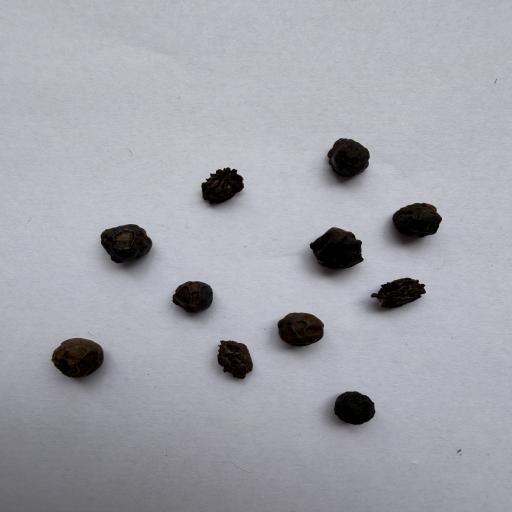Black_pepper: (315, 372, 396, 438), (44, 330, 110, 382), (94, 218, 161, 267), (325, 126, 381, 183), (387, 199, 449, 242), (308, 226, 368, 270), (275, 305, 329, 350), (160, 278, 219, 315)
papaya_seed: (189, 164, 259, 209), (208, 330, 261, 387), (362, 275, 431, 315)
